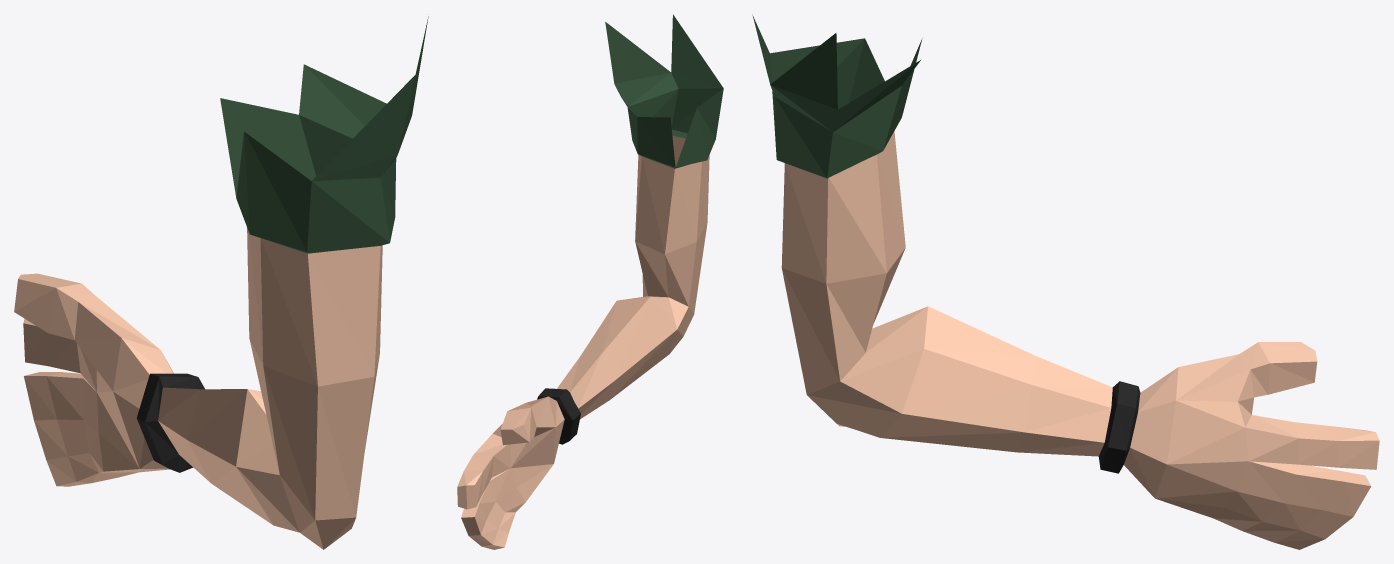
Rendered from ShopKeeper_01_ArmR_76.obj.
The picture shows the model from 3 angles, left to right: view 1: azimuth 30°, elevation 25°; view 2: azimuth 150°, elevation 25°; view 3: azimuth 270°, elevation 25°; orthographic projection. The views are drawn at different scales.
Parts seen in each view (by area): view 1: ShopKeeper_01_ArmR_76; view 2: ShopKeeper_01_ArmR_76; view 3: ShopKeeper_01_ArmR_76.
Part boxes in pixels (x1,y1,x2,y2): ShopKeeper_01_ArmR_76: (14,16,428,549); ShopKeeper_01_ArmR_76: (457,14,723,549); ShopKeeper_01_ArmR_76: (752,14,1379,549).
Bounding box in the file's own units: 0.1602 × 0.5733 × 0.5881.
Materials: 1 (1 with a texture image).
